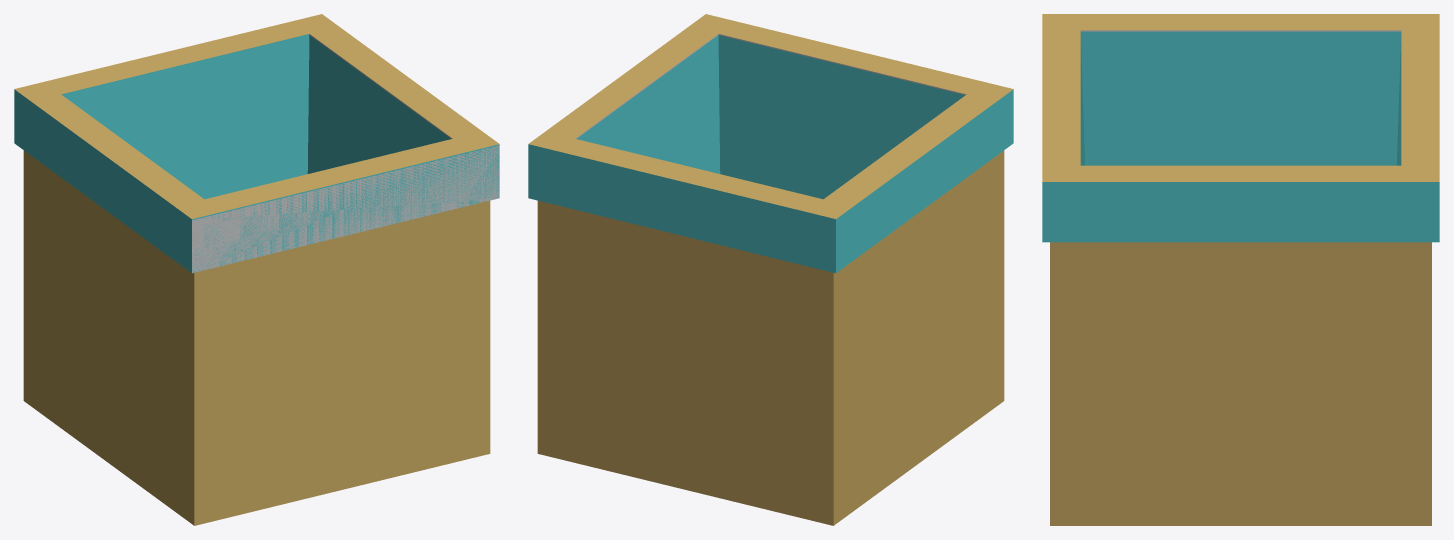
Rendered from basurero.fbx.
The picture shows the model from 3 angles, left to right: view 1: azimuth 30°, elevation 25°; view 2: azimuth 150°, elevation 25°; view 3: azimuth 270°, elevation 25°; orthographic projection. The views are drawn at different scales.
Parts seen in each view (by area): view 1: Cube; view 2: Cube; view 3: Cube.
Part boxes in pixels (x1,y1,x2,y2): Cube: (14,14,499,525); Cube: (528,14,1013,525); Cube: (1042,14,1439,525).
Bounding box in the file's own units: 104 × 100 × 104.
